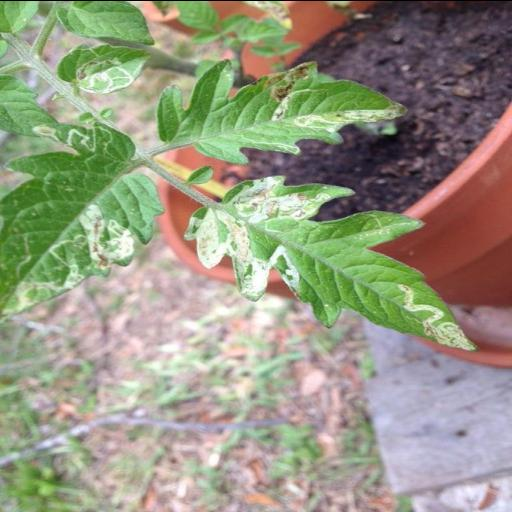disease_tomato: (182, 175, 478, 352), (0, 123, 162, 317), (157, 56, 405, 164), (55, 40, 158, 94)
